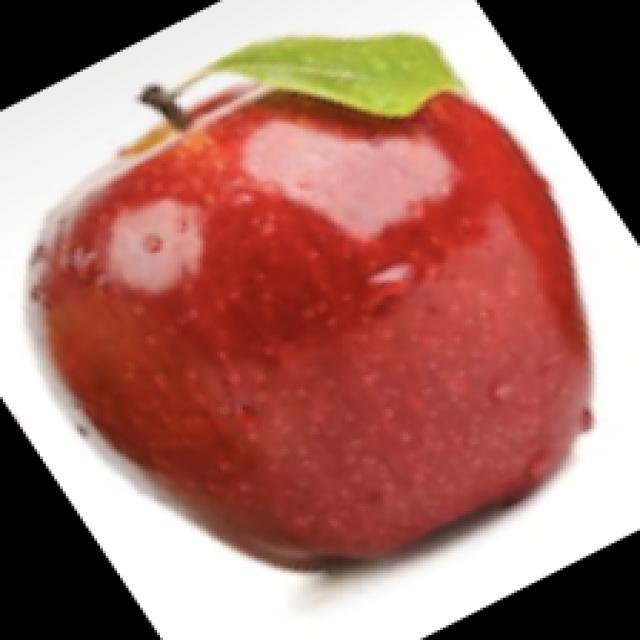Apple: (26, 33, 595, 569)
